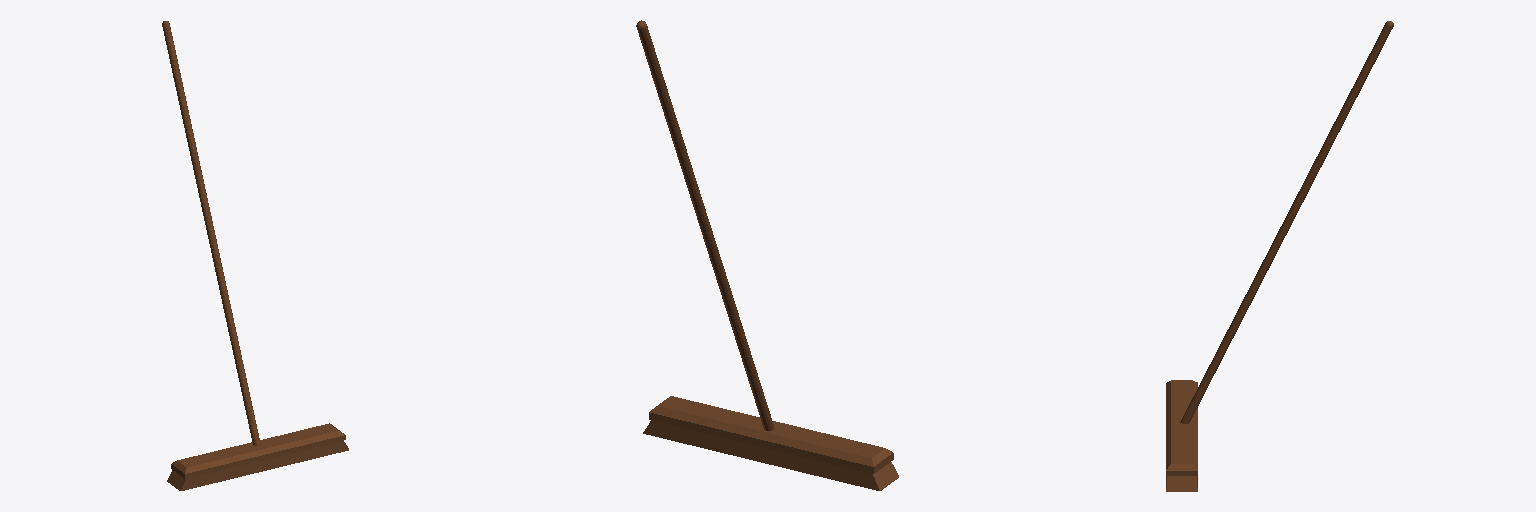
URDF robot description (broom):
<?xml version="1.0"?>
<robot name="broom">
    <link name="robot_base">
        <inertial>
            <origin xyz="0.000060 -0.098605 0.074855" rpy="3.141299 3.558271 1.570976" />
            <inertia iyz="-1.4035092281028e-05" izz="0.00060925138923907" ixy="1.5137888863509e-07" ixx="0.0074800684110272" iyy="0.0069629382614352" ixz="0.00011723877068473" />
            <mass value="0.4450780749321" />
        </inertial>
        <collision name="broom">
            <origin xyz="0.000679 0.015843 0.321984" rpy="2.705260 3.141593 3.141593" />
            <geometry>
                <box size="0.011250 0.011250 0.600000" />
            </geometry>
        </collision>
        <collision name="broom">
            <origin xyz="-0.000067 -0.122149 0.024017" rpy="3.141592 3.141593 3.141592" />
            <geometry>
                <box size="0.262500 0.037500 0.037500" />
            </geometry>
        </collision>
        <visual name="sweep_to_dustpan_broom_visual">
            <origin xyz="-0.000060 0.000866 0.304826" rpy="-3.141479 3.544896 1.570849" />
            <geometry>
                <mesh filename="broom_sweep_to_dustpan_broom_visual_vis_1.dae" />
            </geometry>
            <material name="sweep_to_dustpan_broom_visual_material">
                <color rgba="0.460000 0.310000 0.200000 1.0" />
            </material>
        </visual>
    </link>
</robot>

--- Facts derived from the render (not from the file) ---
The picture shows the robot from 3 angles, left to right: view 1: azimuth 30°, elevation 25°; view 2: azimuth 150°, elevation 25°; view 3: azimuth 270°, elevation 25°; orthographic projection.
Model broom with 1 links and 0 joints (none), rooted at robot_base, posed all joints at 0.
Visible links, largest first — view 1: robot_base; view 2: robot_base; view 3: robot_base.
Link boxes in pixels (x1=…): robot_base: x1=162, y1=21, x2=348, y2=490; robot_base: x1=636, y1=20, x2=898, y2=490; robot_base: x1=1166, y1=21, x2=1393, y2=491.
Size in the robot's own frame: 0.2828 by 0.2932 by 0.6022 metres.
Meshes: 1 distinct files referenced, 1 mesh visuals loaded (1 Collada DAE).
